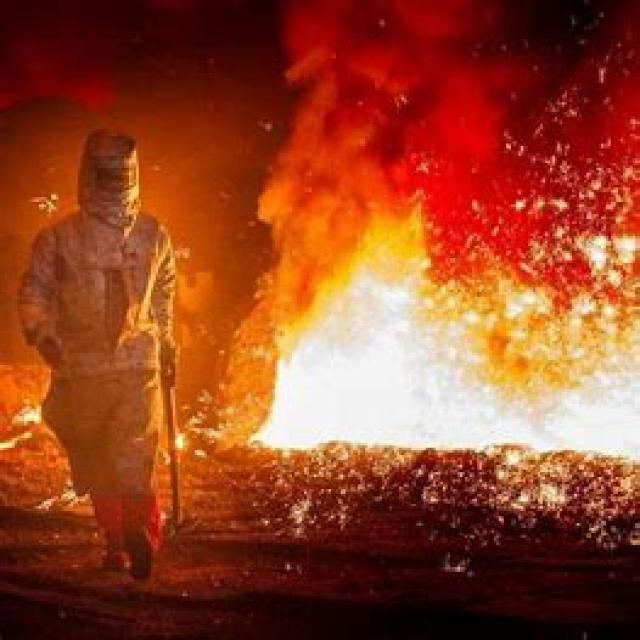fire: (264, 164, 640, 473)
